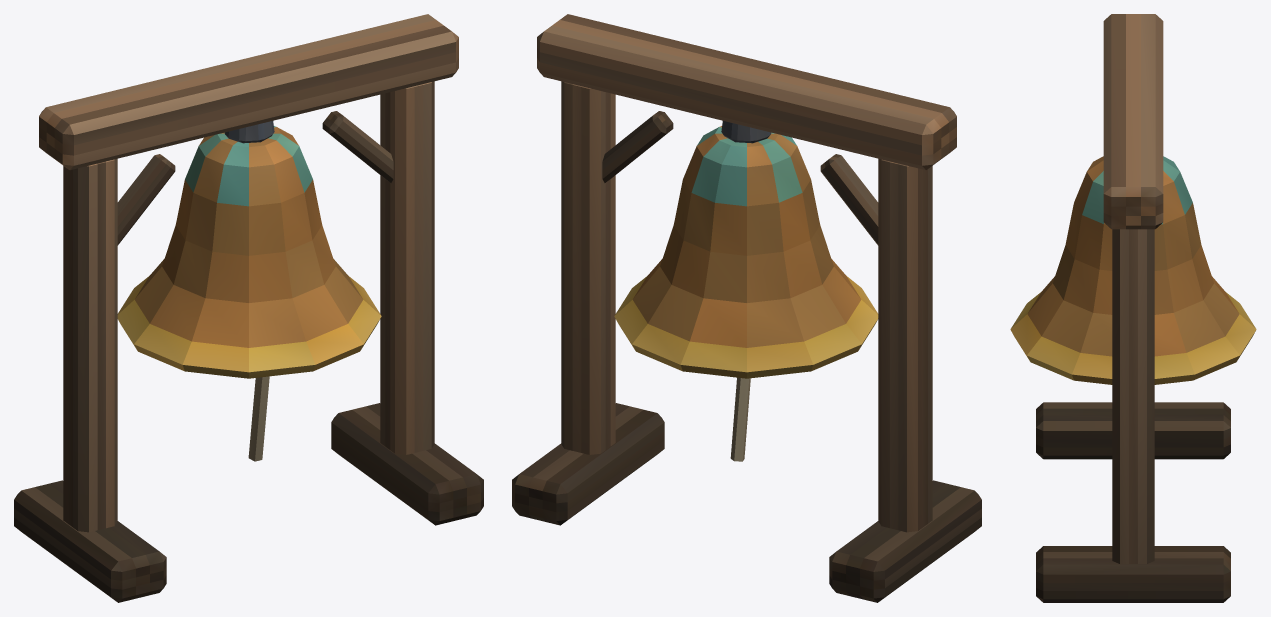
Rendered from bell.hq.glb.
The picture shows the model from 3 angles, left to right: view 1: azimuth 30°, elevation 25°; view 2: azimuth 150°, elevation 25°; view 3: azimuth 270°, elevation 25°; orthographic projection. The views are drawn at different scales.
Parts seen in each view (by area): view 1: bell; view 2: bell; view 3: bell.
Boxes of the visible parts, <box> form: bell: <box>14,14,483,602</box>; bell: <box>512,14,981,602</box>; bell: <box>1010,14,1256,602</box>.
Bounding box in the file's own units: 1 × 1.09 × 0.5801.
